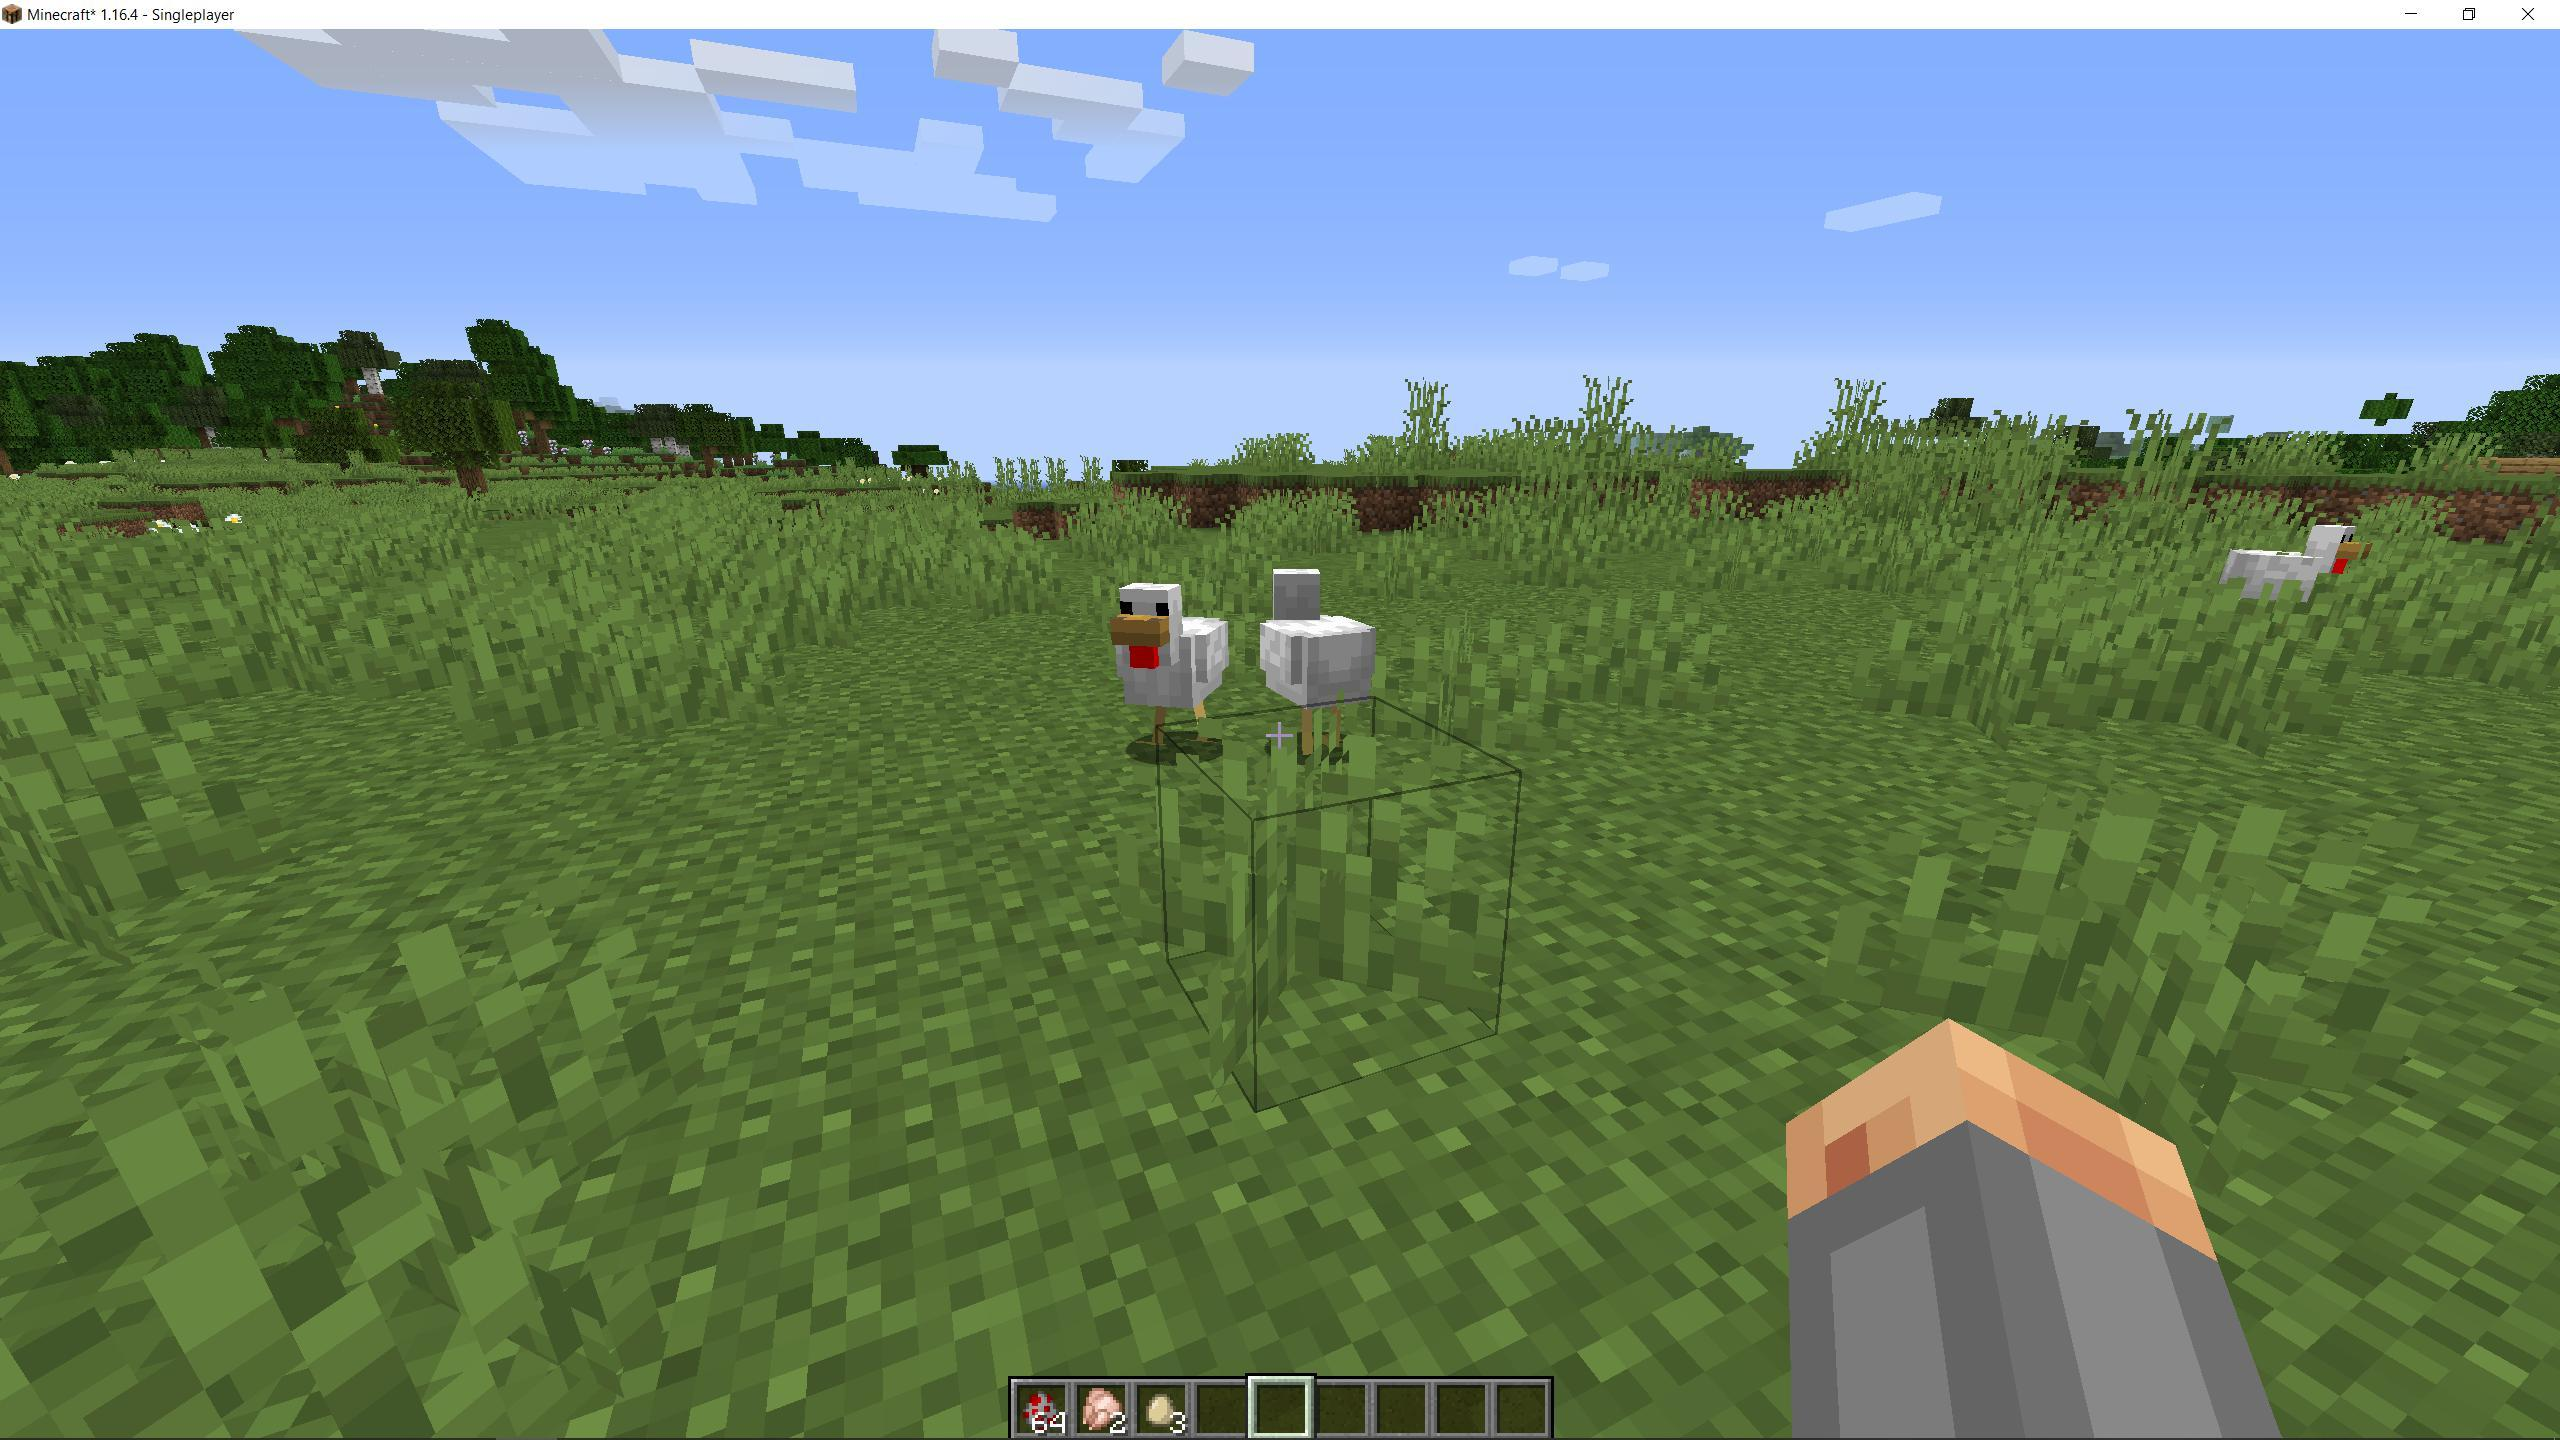chicken: (1252, 563, 1378, 760), (1104, 573, 1233, 760), (2219, 517, 2367, 652)
